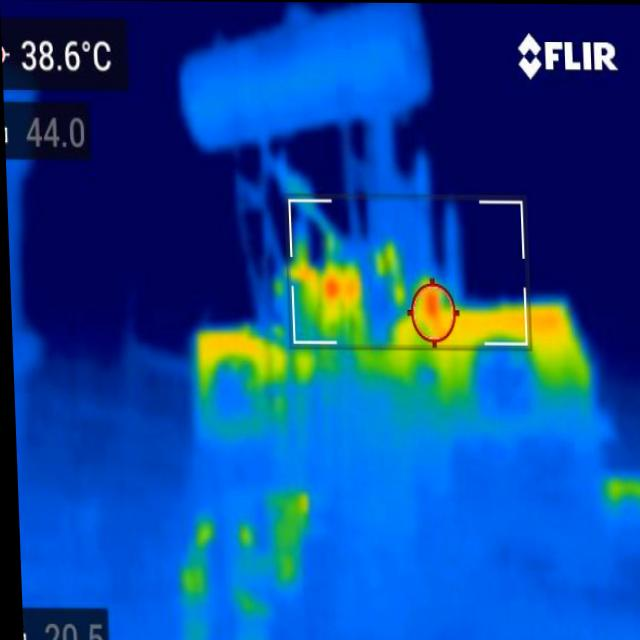Potentially Faulty: (410, 276, 449, 330), (319, 270, 349, 308)
